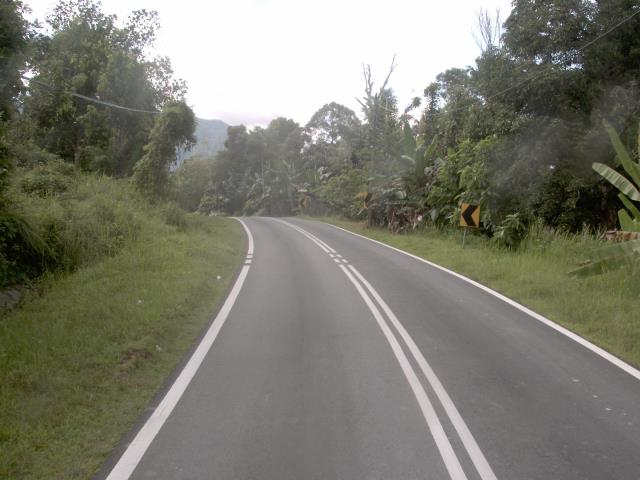traffic_sign: (455, 196, 484, 234)
